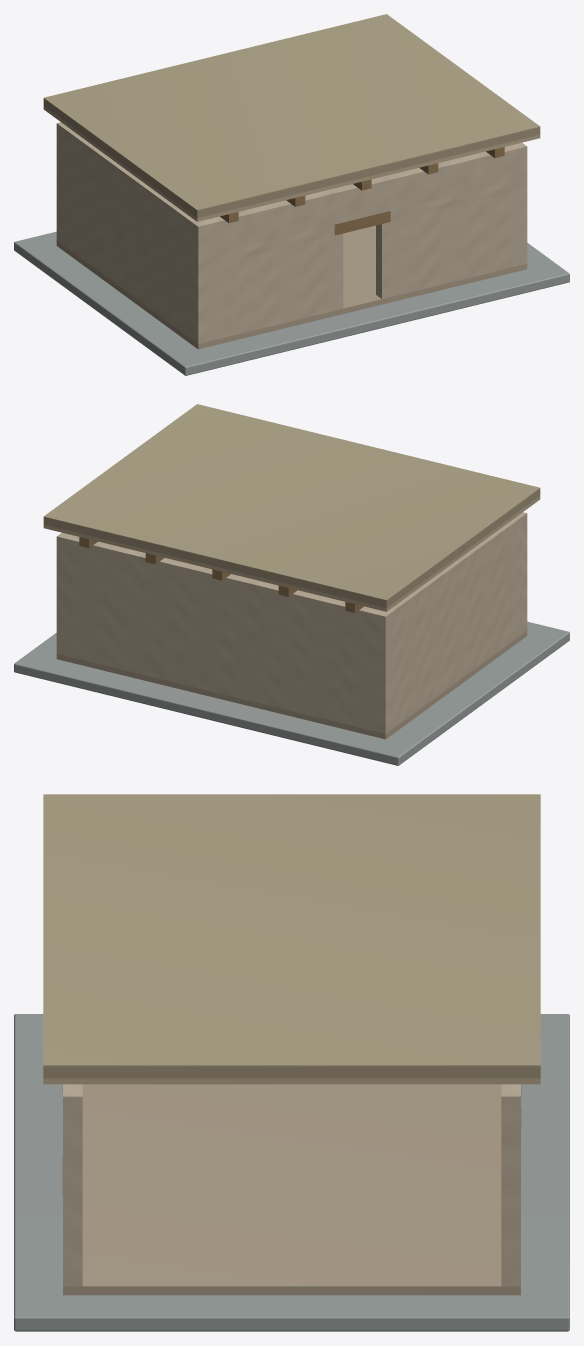
The model's file is galilee-roof.glb.
3 renders of one model, top to bottom at view 1: azimuth 30°, elevation 25°; view 2: azimuth 150°, elevation 25°; view 3: azimuth 270°, elevation 25°, orthographic. The views are drawn at different scales.
Parts seen in each view (by area): view 1: galilee-roof-galilee-modern-fine-surface-layer, galilee-roof-galilee-original-earth-wall-comparison.001, galilee-roof-galilee-modern-neutral-display, galilee-roof-galilee-original-earth-wall-comparison.006, galilee-roof-galilee-original-earth-wall-comparison.002, galilee-roof-galilee-original-earth-wall-comparison.003, galilee-roof-galilee-original-floor-comparison, galilee-roof-galilee-modern-selected-soil-layer, galilee-roof-galilee-modern-supported-cover-comparison, galilee-roof-galilee-original-earth-wall-comparison.004, galilee-roof-galilee-original-earth-wall-comparison.005, galilee-roof-galilee-original-earth-wall-comparison (+1 smaller); view 2: galilee-roof-galilee-modern-fine-surface-layer, galilee-roof-galilee-original-earth-wall-comparison, galilee-roof-galilee-original-earth-wall-comparison.001, galilee-roof-galilee-modern-neutral-display, galilee-roof-galilee-modern-selected-soil-layer, galilee-roof-galilee-original-floor-comparison, galilee-roof-galilee-modern-supported-cover-comparison, galilee-roof-galilee-original-earth-wall-comparison.002; view 3: galilee-roof-galilee-modern-fine-surface-layer, galilee-roof-galilee-original-floor-comparison, galilee-roof-galilee-modern-neutral-display, galilee-roof-galilee-modern-selected-soil-layer, galilee-roof-galilee-original-earth-wall-comparison, galilee-roof-galilee-modern-supported-cover-comparison, galilee-roof-galilee-original-earth-wall-comparison.003, galilee-roof-galilee-original-earth-wall-comparison.006.
Boxes of the visible parts, box(x1,y1,x2,y2) form: galilee-roof-galilee-modern-fine-surface-layer: box(43, 14, 540, 210); galilee-roof-galilee-original-earth-wall-comparison.001: box(62, 126, 195, 338); galilee-roof-galilee-modern-neutral-display: box(14, 231, 569, 375); galilee-roof-galilee-original-earth-wall-comparison.006: box(192, 142, 527, 257); galilee-roof-galilee-original-earth-wall-comparison.002: box(192, 233, 343, 343); galilee-roof-galilee-original-earth-wall-comparison.003: box(376, 188, 527, 298); galilee-roof-galilee-original-floor-comparison: box(56, 225, 527, 349); galilee-roof-galilee-modern-selected-soil-layer: box(43, 99, 540, 218); galilee-roof-galilee-modern-supported-cover-comparison: box(43, 106, 540, 221); galilee-roof-galilee-original-earth-wall-comparison.004: box(192, 224, 334, 268); galilee-roof-galilee-original-earth-wall-comparison.005: box(390, 177, 527, 221); galilee-roof-galilee-original-earth-wall-comparison: box(56, 122, 66, 244); galilee-roof-galilee-modern-fine-surface-layer: box(43, 404, 540, 600); galilee-roof-galilee-original-earth-wall-comparison: box(56, 532, 391, 733); galilee-roof-galilee-original-earth-wall-comparison.001: box(388, 516, 521, 728); galilee-roof-galilee-modern-neutral-display: box(14, 621, 569, 765); galilee-roof-galilee-modern-selected-soil-layer: box(43, 489, 540, 608); galilee-roof-galilee-original-floor-comparison: box(56, 631, 527, 739); galilee-roof-galilee-modern-supported-cover-comparison: box(43, 496, 540, 611); galilee-roof-galilee-original-earth-wall-comparison.002: box(521, 555, 527, 634); galilee-roof-galilee-modern-fine-surface-layer: box(43, 794, 540, 1066); galilee-roof-galilee-original-floor-comparison: box(63, 1084, 520, 1295); galilee-roof-galilee-modern-neutral-display: box(14, 1014, 569, 1331); galilee-roof-galilee-modern-selected-soil-layer: box(43, 1066, 540, 1078); galilee-roof-galilee-original-earth-wall-comparison: box(501, 1084, 521, 1286); galilee-roof-galilee-modern-supported-cover-comparison: box(43, 1078, 540, 1084); galilee-roof-galilee-original-earth-wall-comparison.003: box(62, 1156, 82, 1286); galilee-roof-galilee-original-earth-wall-comparison.006: box(63, 1084, 82, 1146).
Bounding box in the file's own units: 1.1 × 0.422 × 0.85.
